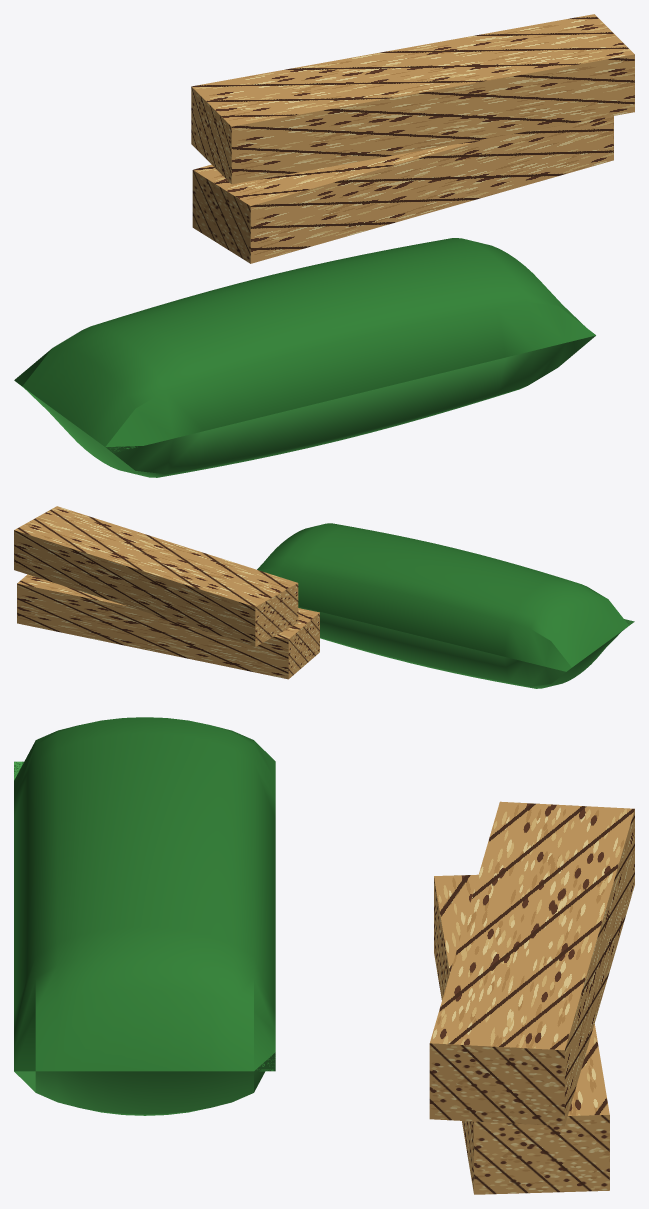
The model's file is Granola_Bars.fbx.
3 renders of one model, top to bottom at view 1: azimuth 30°, elevation 25°; view 2: azimuth 150°, elevation 25°; view 3: azimuth 270°, elevation 25°, orthographic. The views are drawn at different scales.
Parts seen in each view (by area): view 1: Granola_Bars; view 2: Granola_Bars; view 3: Granola_Bars.
Boxes of the visible parts, left/top/right/bottom form: Granola_Bars: left=14, top=14, right=634, bottom=477; Granola_Bars: left=14, top=506, right=634, bottom=688; Granola_Bars: left=14, top=717, right=634, bottom=1194.
Bounding box in the file's own units: 0.2002 × 0.0525 × 0.1186.
Materials: 3 (1 with a texture image).
